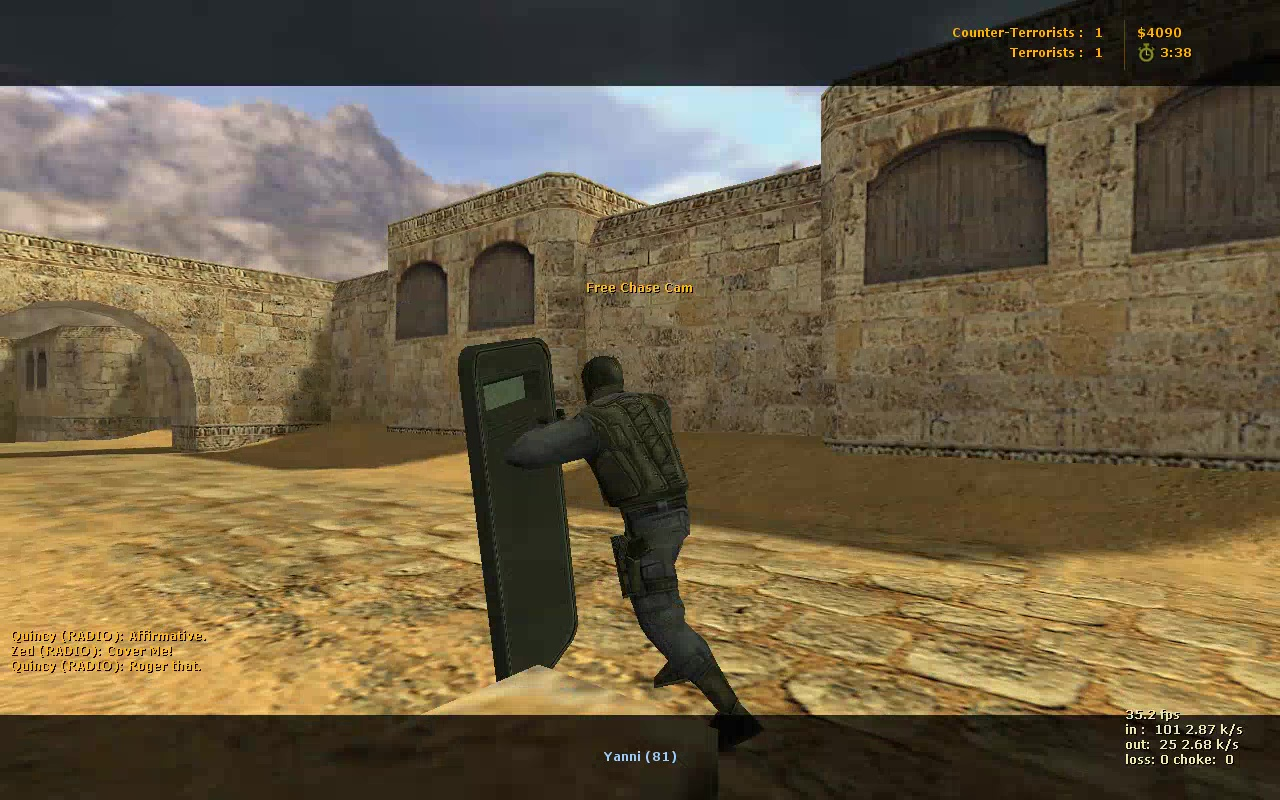ct: (458, 336, 766, 752)
